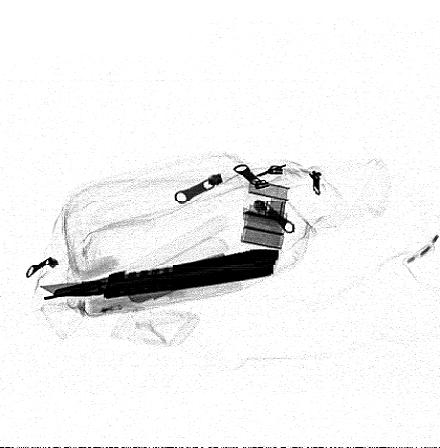Knife: (38, 249, 280, 299)
